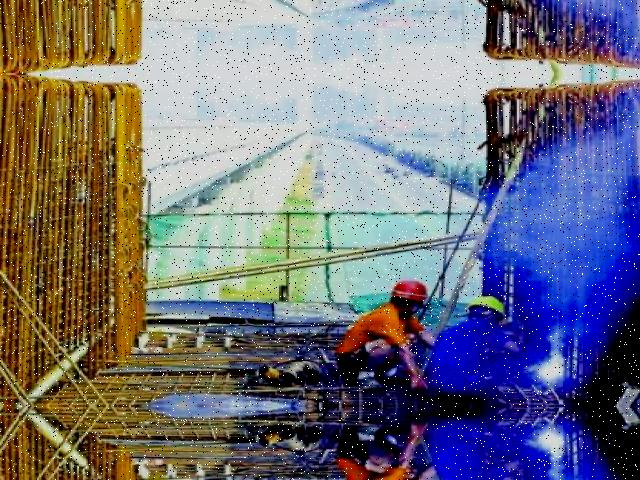Helmet: (387, 276, 437, 305), (468, 290, 510, 320)
